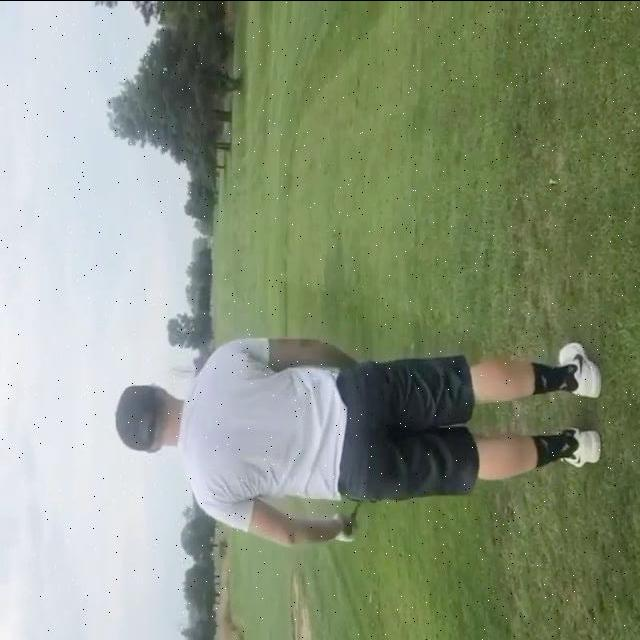golf club-handle: (344, 500, 362, 535)
